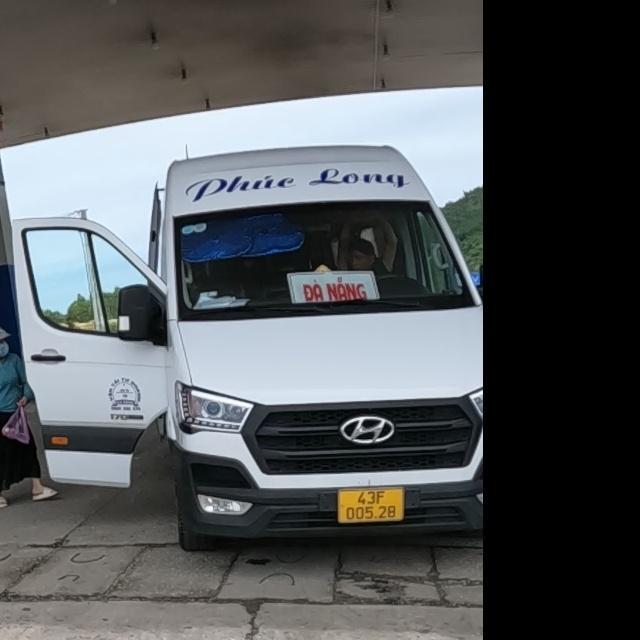license-plate: (338, 487, 404, 524)
